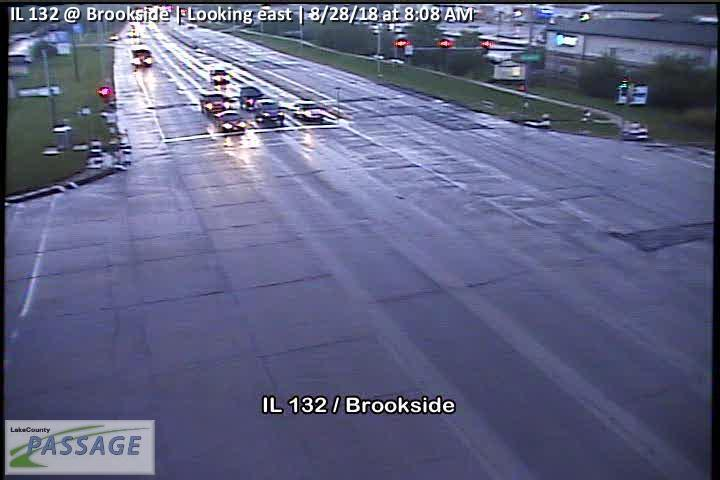Sedan: (252, 96, 286, 125), (198, 89, 230, 115), (212, 108, 245, 132), (238, 86, 267, 110), (293, 98, 325, 119)
